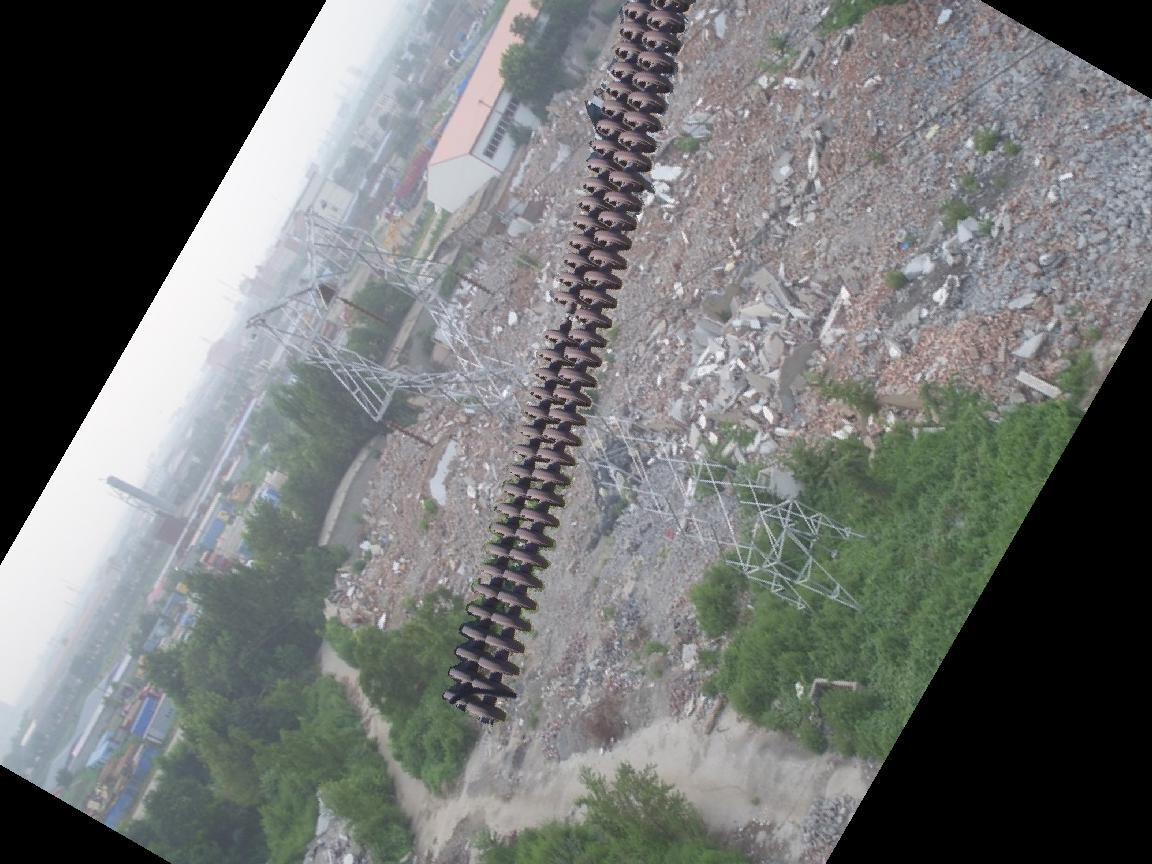insulator: (442, 1, 689, 733)
insulator_stringdrop: (539, 287, 586, 350)
